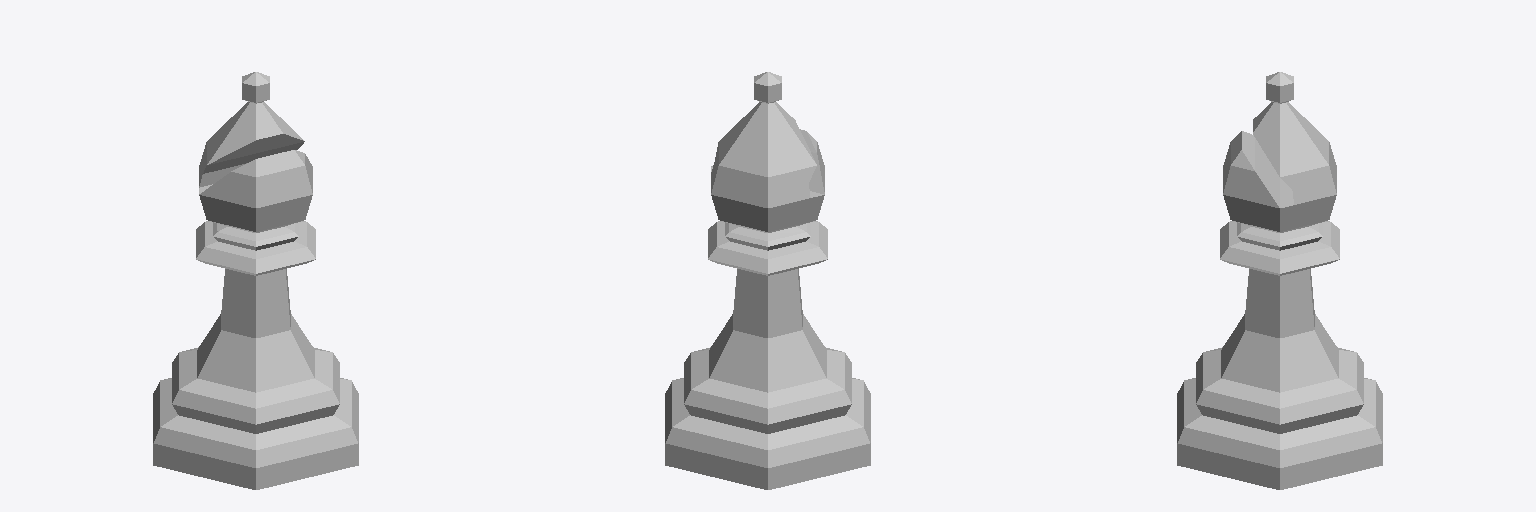
Rendered from alfilA.obj.
The picture shows the model from 3 angles: view 1: azimuth 30°, elevation 25°; view 2: azimuth 150°, elevation 25°; view 3: azimuth 270°, elevation 25°; orthographic projection.
Parts seen in each view (by area): view 1: polySurface7; view 2: polySurface7; view 3: polySurface7.
Part boxes in pixels (x1,y1,x2,y2): polySurface7: (153,72,358,489); polySurface7: (665,72,870,489); polySurface7: (1177,72,1382,489).
Size of the model in its own units: 0.8763 by 1.51 by 0.7589.